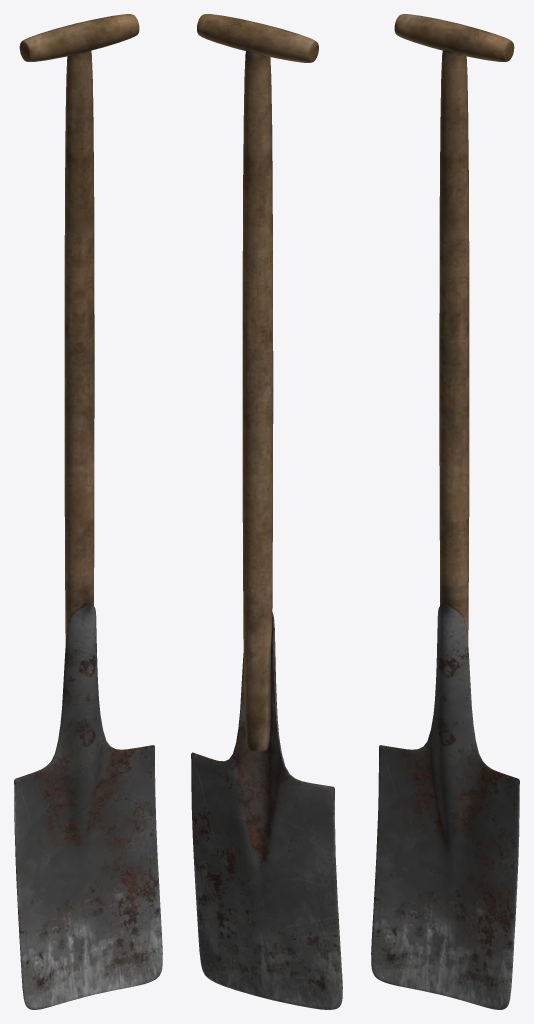
The model's file is rusted_spade_01.glb.
The picture shows the model from 3 angles, left to right: view 1: azimuth 30°, elevation 25°; view 2: azimuth 150°, elevation 25°; view 3: azimuth 330°, elevation 25°; orthographic projection. The views are drawn at different scales.
Parts seen in each view (by area): view 1: rusted_spade_01; view 2: rusted_spade_01; view 3: rusted_spade_01.
Part boxes in pixels (x1,y1,x2,y2): rusted_spade_01: (14, 14, 162, 1009); rusted_spade_01: (191, 14, 342, 1009); rusted_spade_01: (371, 14, 519, 1009).
Bounding box in the file's own units: 0.1681 × 1.1 × 0.0454.
1 material, 1 textured.
